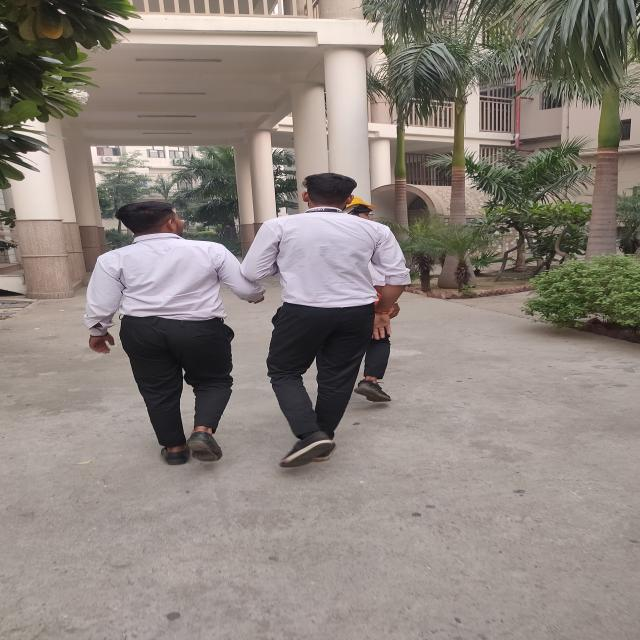unsafe: (72, 196, 248, 469), (255, 170, 411, 473)
